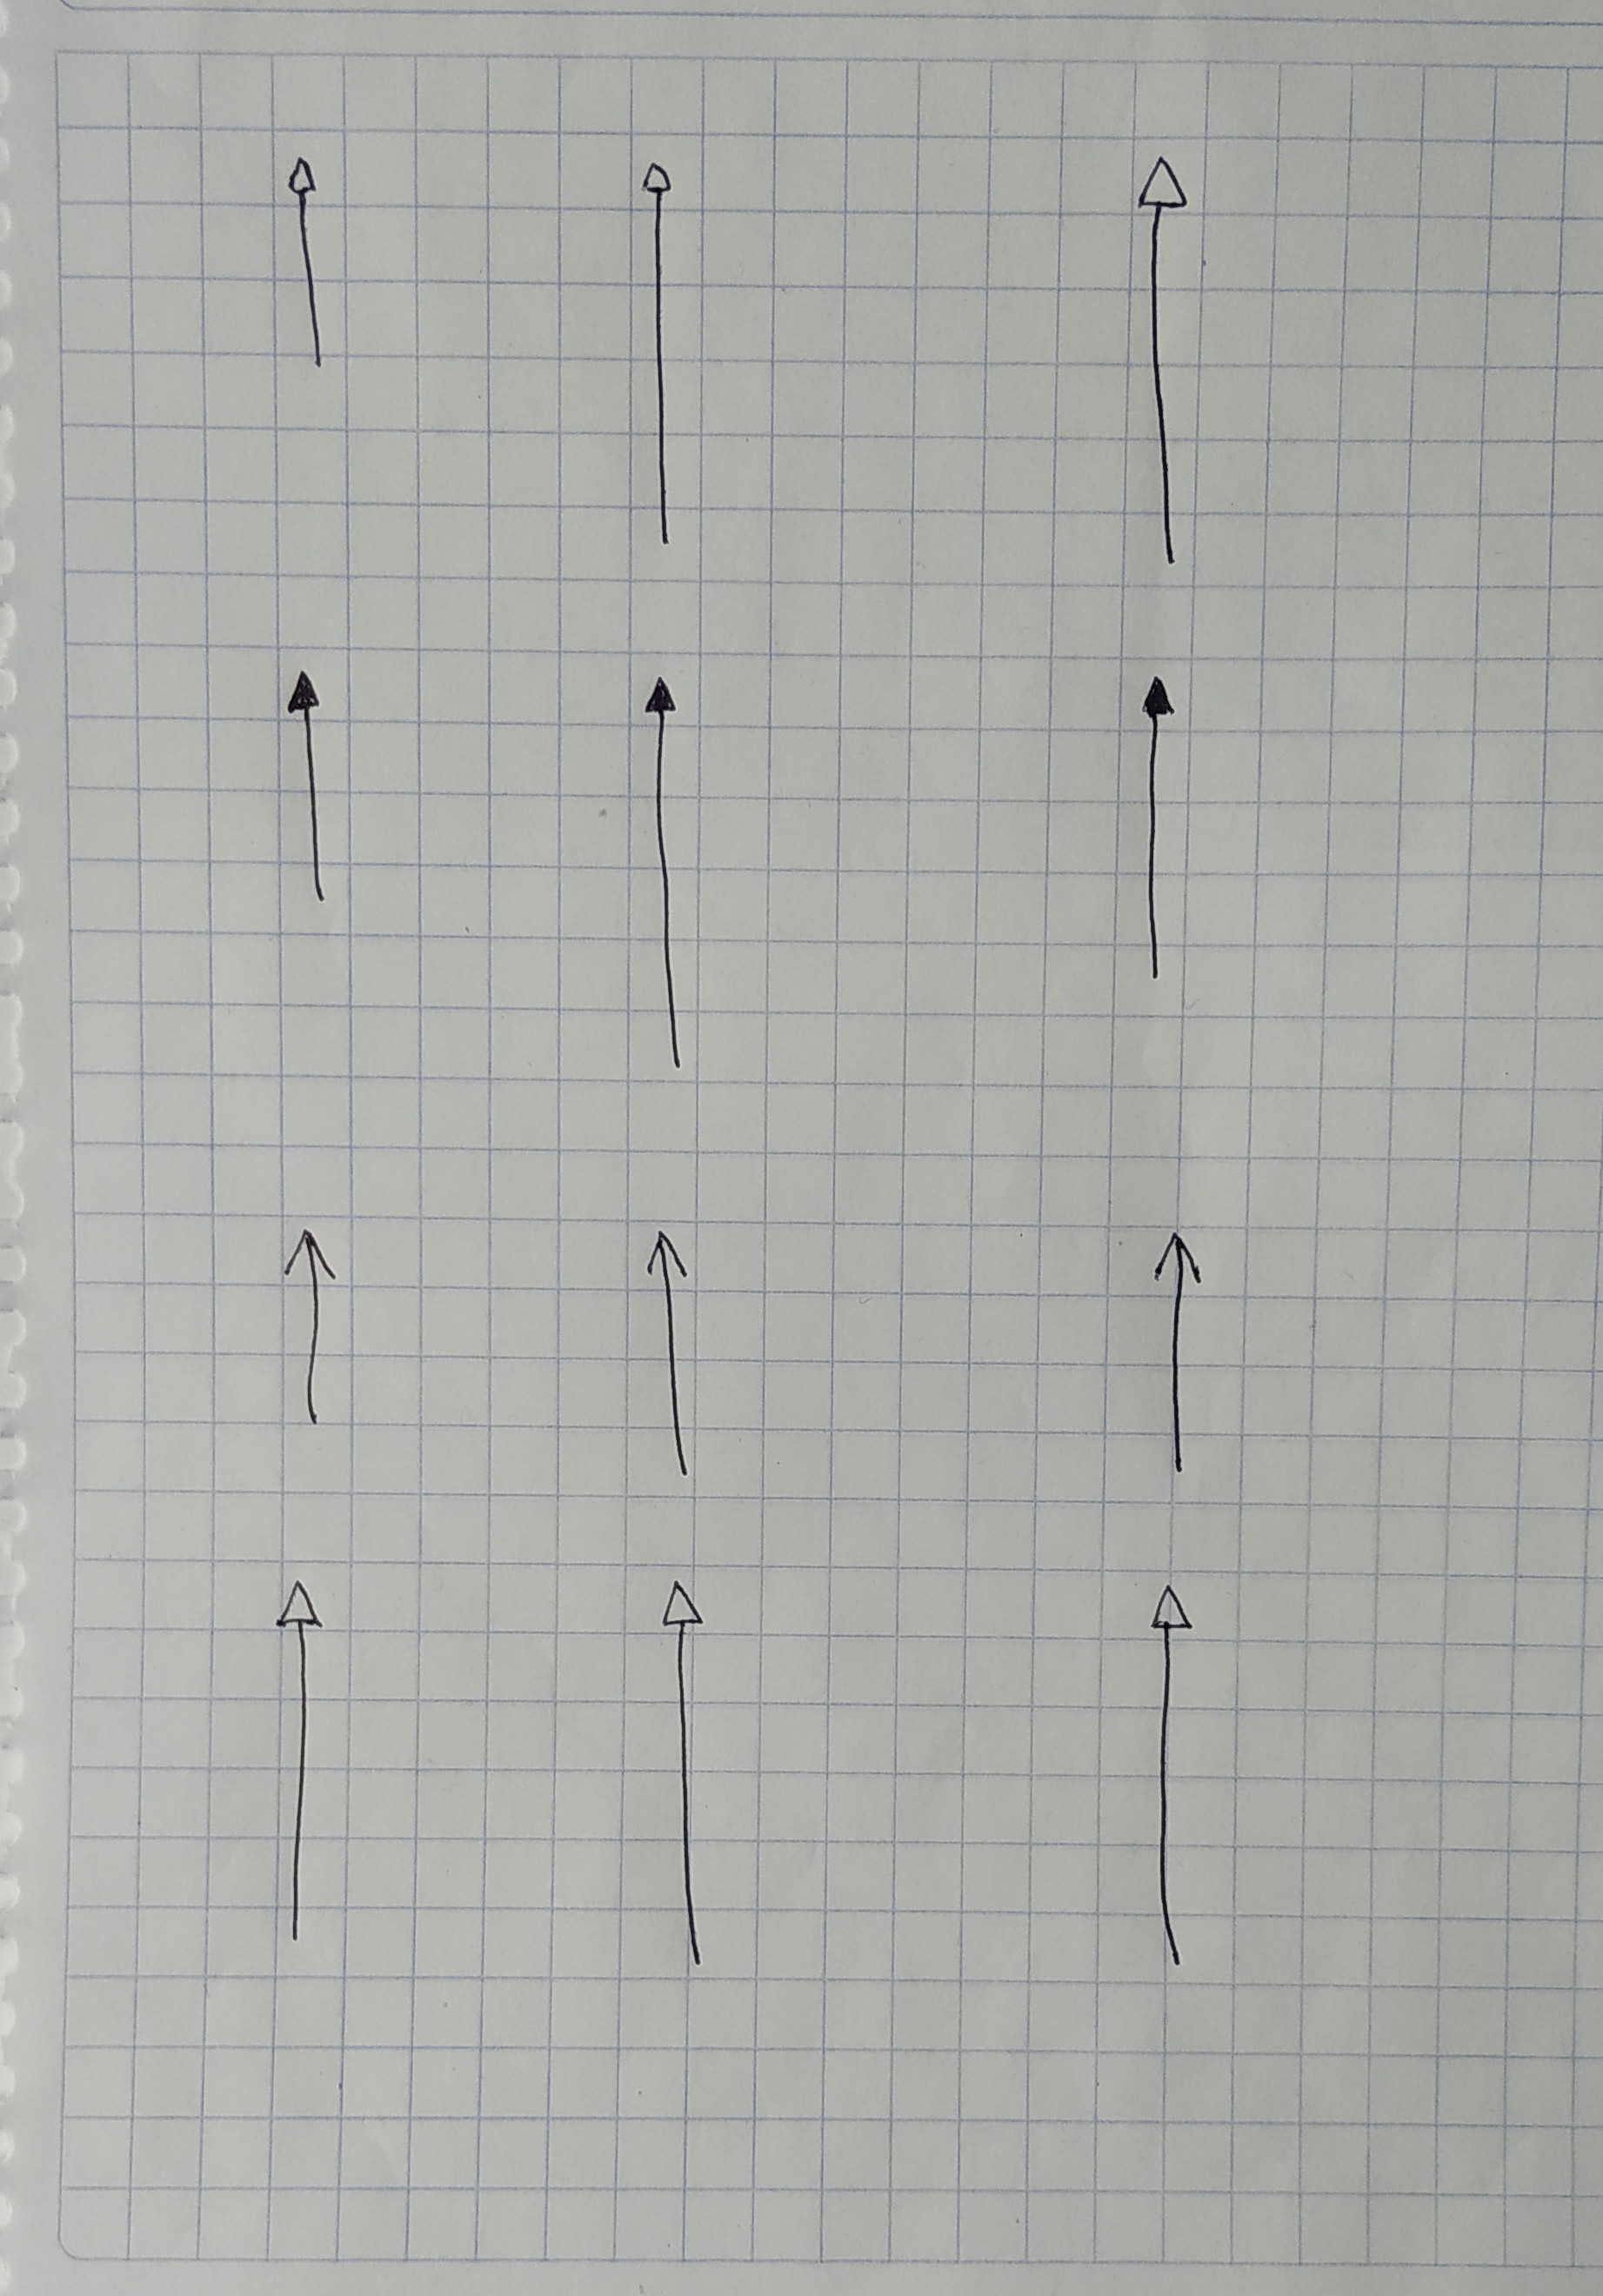arrow_line_up: (649, 1575, 713, 1970), (1137, 150, 1197, 574), (638, 672, 696, 1073), (270, 1581, 326, 1949), (1148, 1579, 1197, 1977), (637, 161, 684, 555), (638, 1225, 703, 1481), (1149, 1225, 1207, 1473), (283, 663, 340, 905), (1132, 672, 1174, 989), (281, 1223, 340, 1434), (284, 155, 340, 373)
